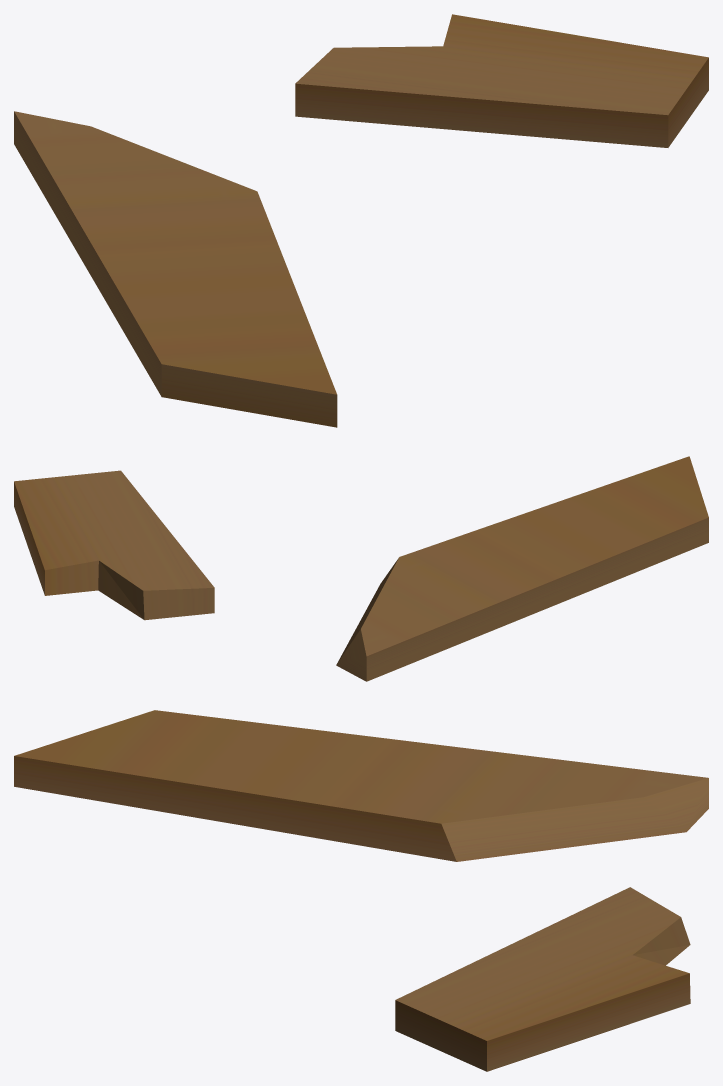
The model's file is Wood_1.fbx.
3 views of the same model, one above another, from view 1: azimuth 30°, elevation 25°; view 2: azimuth 150°, elevation 25°; view 3: azimuth 270°, elevation 25° (orthographic). The views are drawn at different scales.
Visible parts, largest first — view 1: polySurface9771; view 2: polySurface9771; view 3: polySurface9771.
Part boxes in pixels (x1,y1,x2,y2): polySurface9771: (14, 14, 708, 427); polySurface9771: (14, 456, 708, 681); polySurface9771: (14, 710, 708, 1071).
Size of the model in its own units: 191 by 8.3 by 170.
